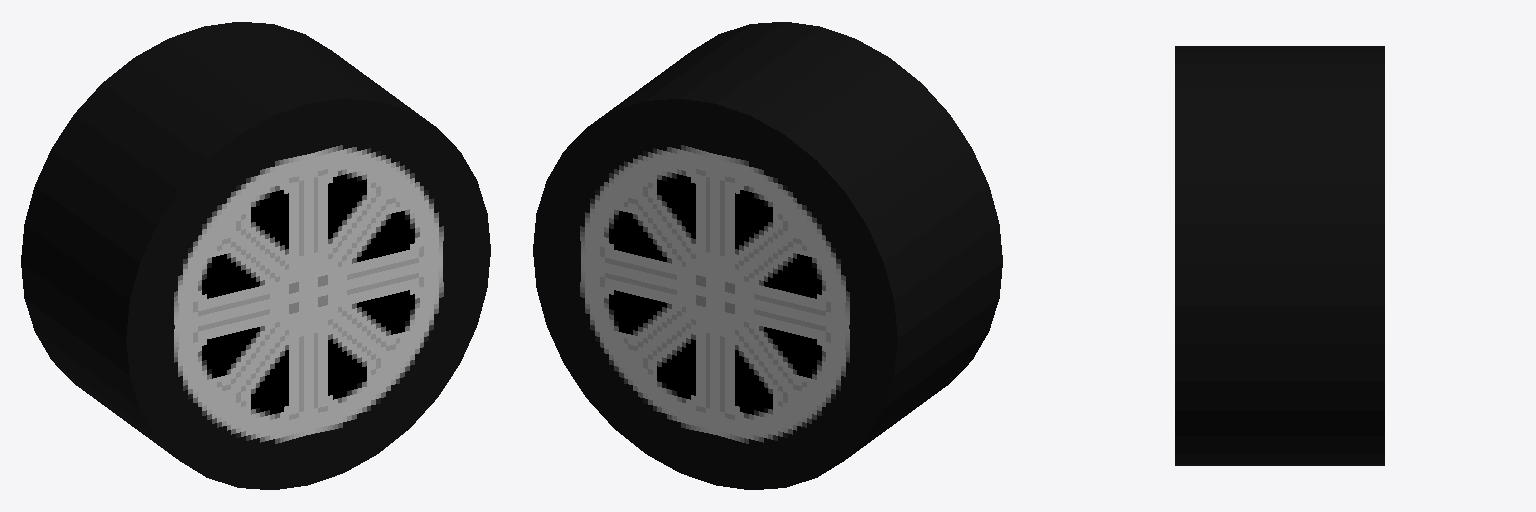
3 renders of one model, left to right at view 1: azimuth 30°, elevation 25°; view 2: azimuth 150°, elevation 25°; view 3: azimuth 270°, elevation 25°, orthographic.
Parts seen in each view (by area): view 1: Cylinder; view 2: Cylinder; view 3: Cylinder.
Boxes of the visible parts, <box> form: Cylinder: <box>21,22,490,489</box>; Cylinder: <box>533,22,1002,489</box>; Cylinder: <box>1175,46,1384,465</box>.
Bounding box in the file's own units: 3 × 3 × 1.5.
Materials: 1 (1 with a texture image).